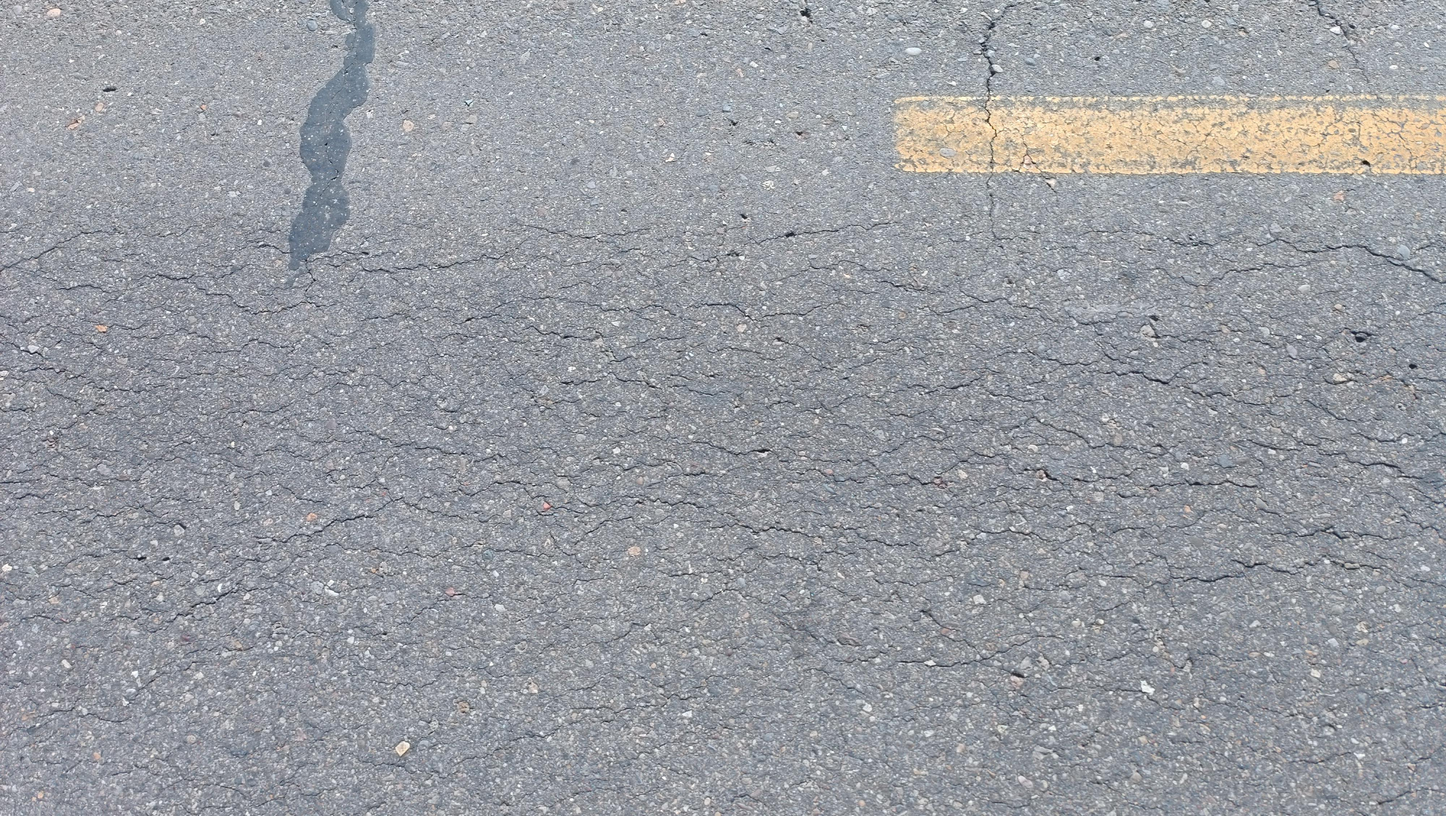GRIETA: (980, 1, 1035, 241), (1308, 0, 1358, 69)
PIEL DE COCODRILO: (0, 215, 1446, 770)
